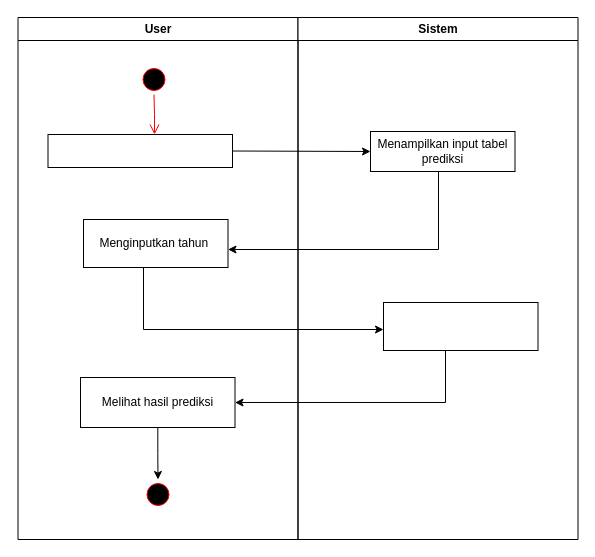
Some shapes in this 595 by 557 pixel diagram are drawn without their labels. The centre of each missing label's shape, as x and y in pixels:
"Menampilkan hasi prediksi" belongs at pixel 460 326.
"User membuka halaman predict" belongs at pixel 139 151.
